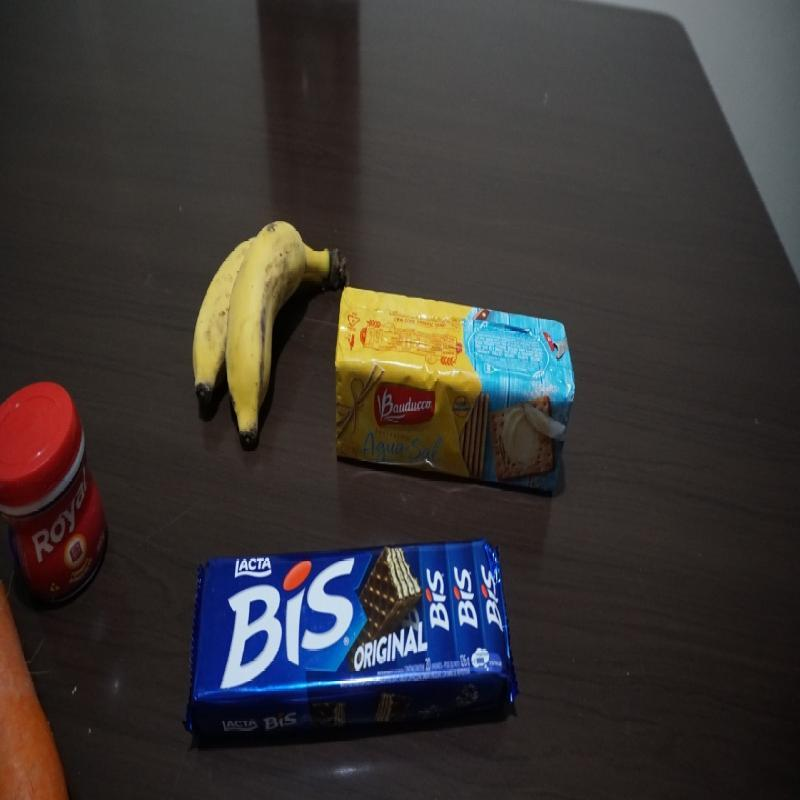Banana: (192, 217, 351, 449)
Carrot: (0, 610, 68, 800)
Cracker: (336, 284, 575, 500)
Yeast: (0, 372, 112, 609)
